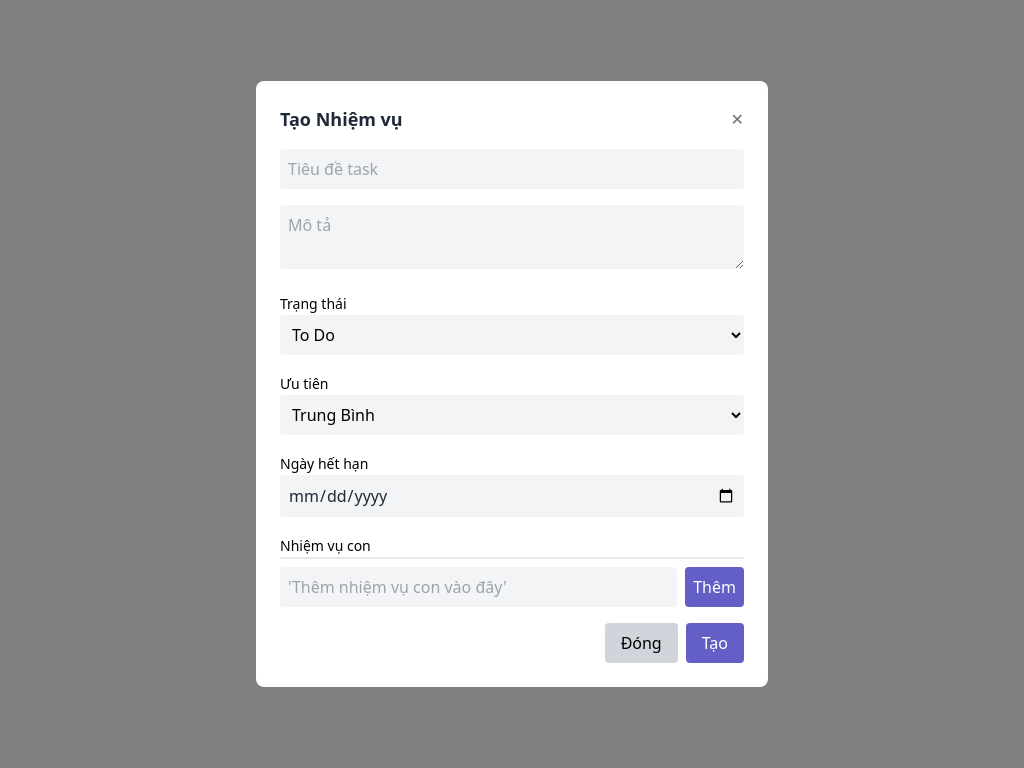
it: AddTaskModal › báo lỗi nếu thiếu tiêu đề
Type "2025-06-14" into the date field labelled "Ngày hết hạn" at (512, 496), box [280, 475, 744, 517]
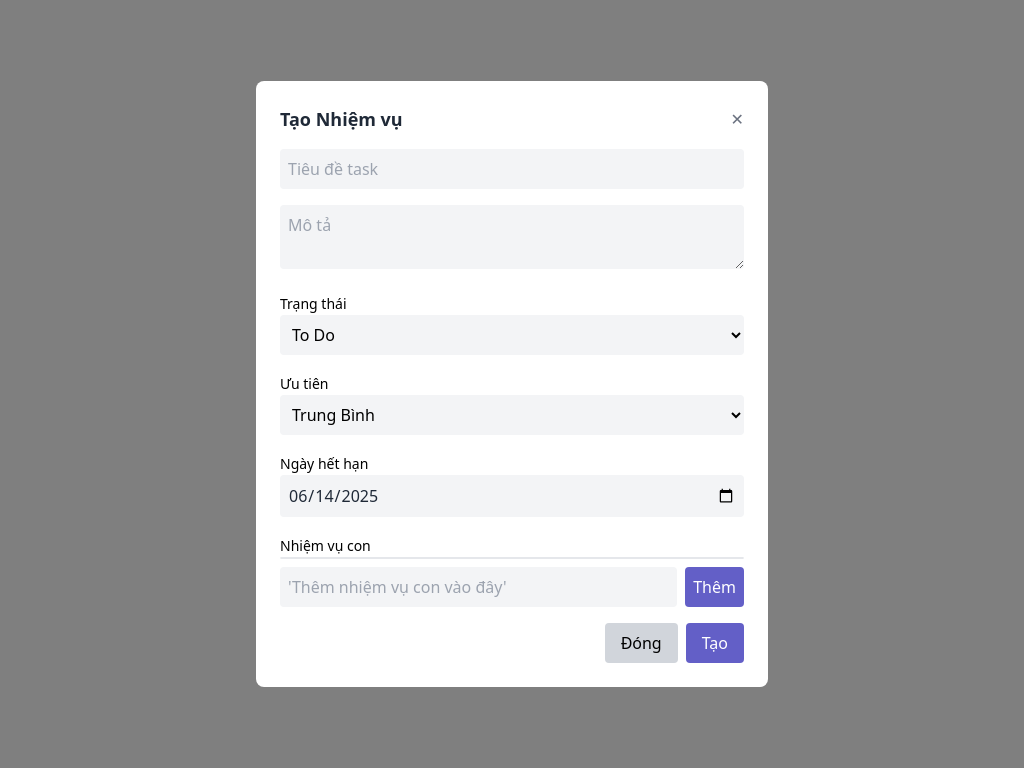
Click the button "Tạo" at (715, 643), box [686, 623, 744, 663]
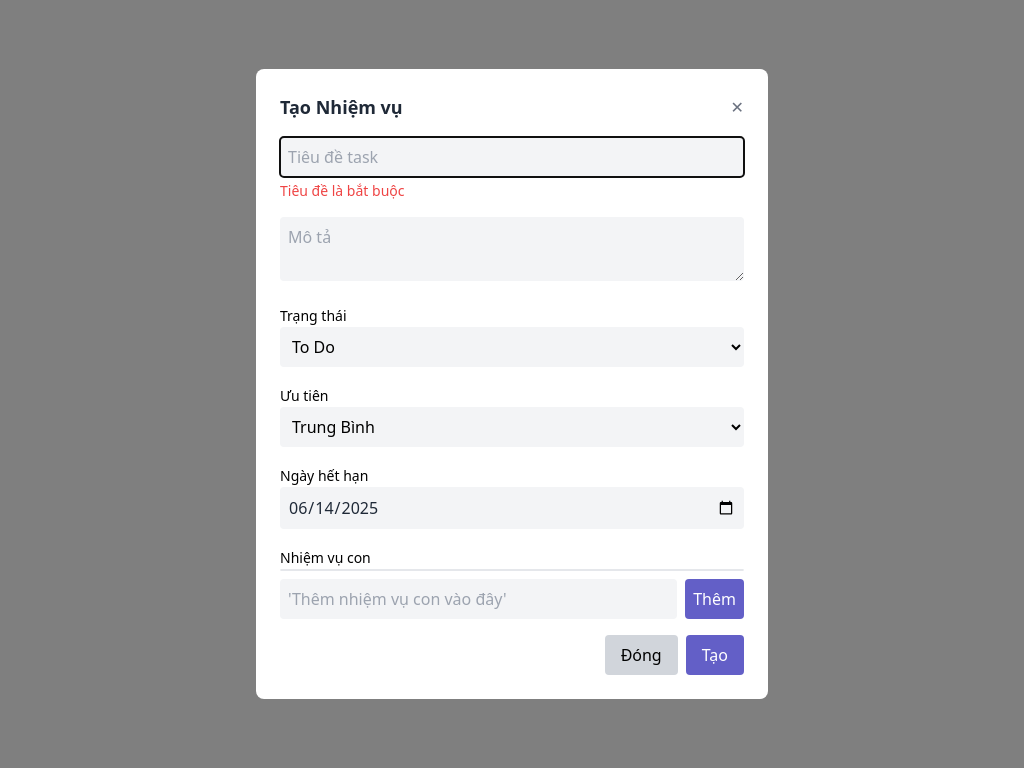
Result: the text "Tiêu đề là bắt buộc" is shown at [280, 181, 404, 200]
